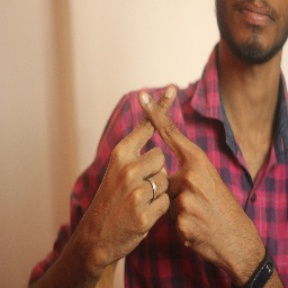X: (101, 80, 218, 186)
